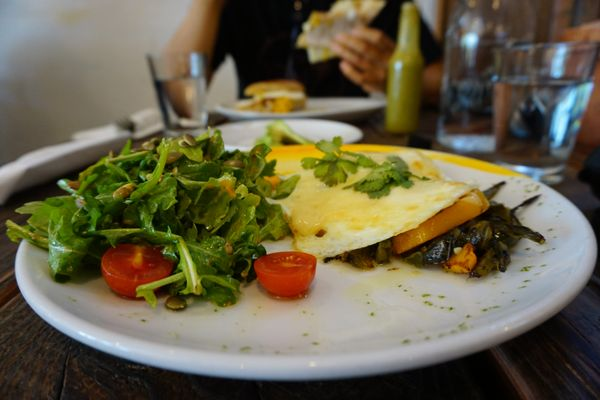pizza: (491, 39, 600, 163)
soup: (240, 78, 308, 112)
